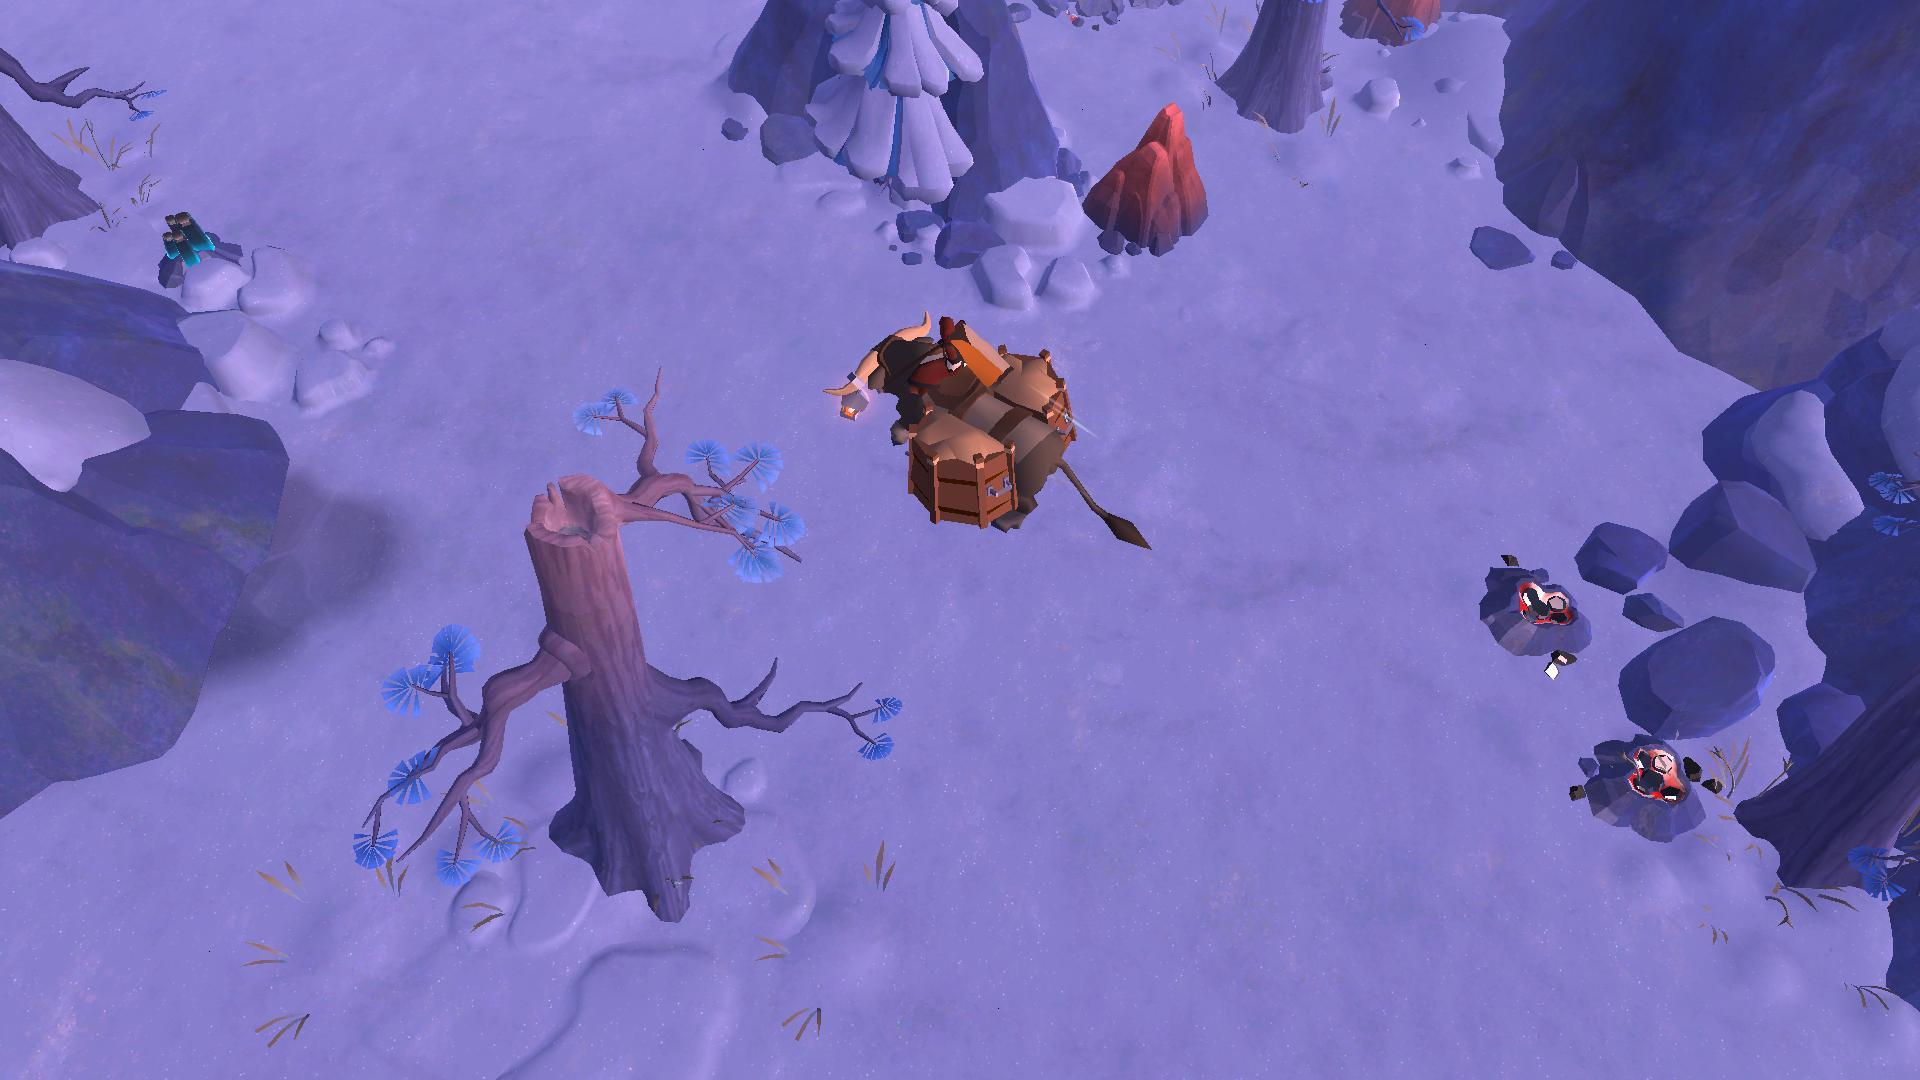ore_t4: (153, 208, 216, 272)
rock_t5: (1079, 98, 1209, 253), (1341, 0, 1440, 49)
